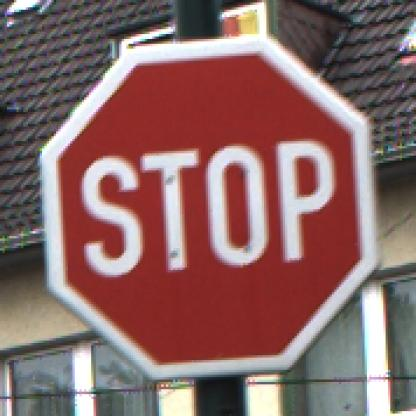Stop: (49, 49, 365, 365)
